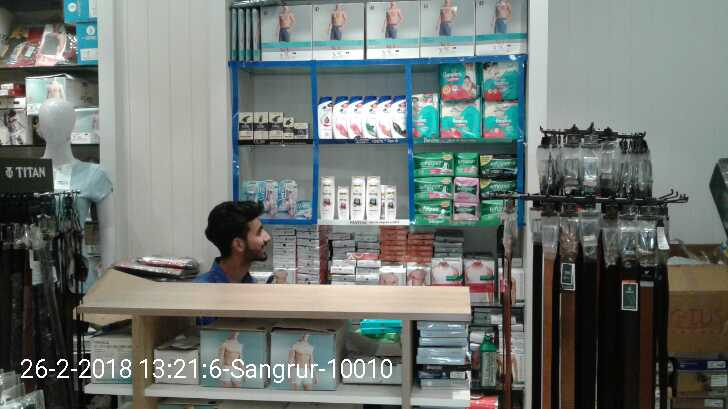venus: (260, 180, 279, 212), (279, 180, 295, 216), (294, 196, 315, 217)
